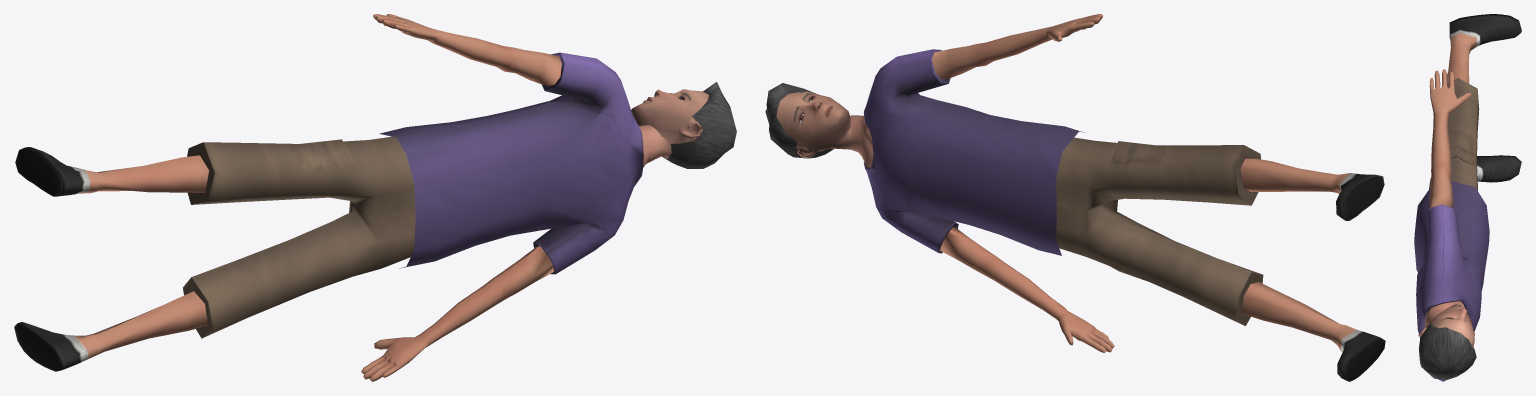
File: man_prone.glb
The picture shows the model from 3 angles, left to right: view 1: azimuth 30°, elevation 25°; view 2: azimuth 150°, elevation 25°; view 3: azimuth 270°, elevation 25°; orthographic projection. The views are drawn at different scales.
Visible parts, largest first — view 1: world; view 2: world; view 3: world.
Part boxes in pixels (x1,y1,x2,y2): world: (14, 14, 736, 381); world: (765, 14, 1385, 381); world: (1414, 14, 1521, 381).
Bounding box in the file's own units: 1.77 × 0.9079 × 0.3062.
Materials: 1 (1 with a texture image).
